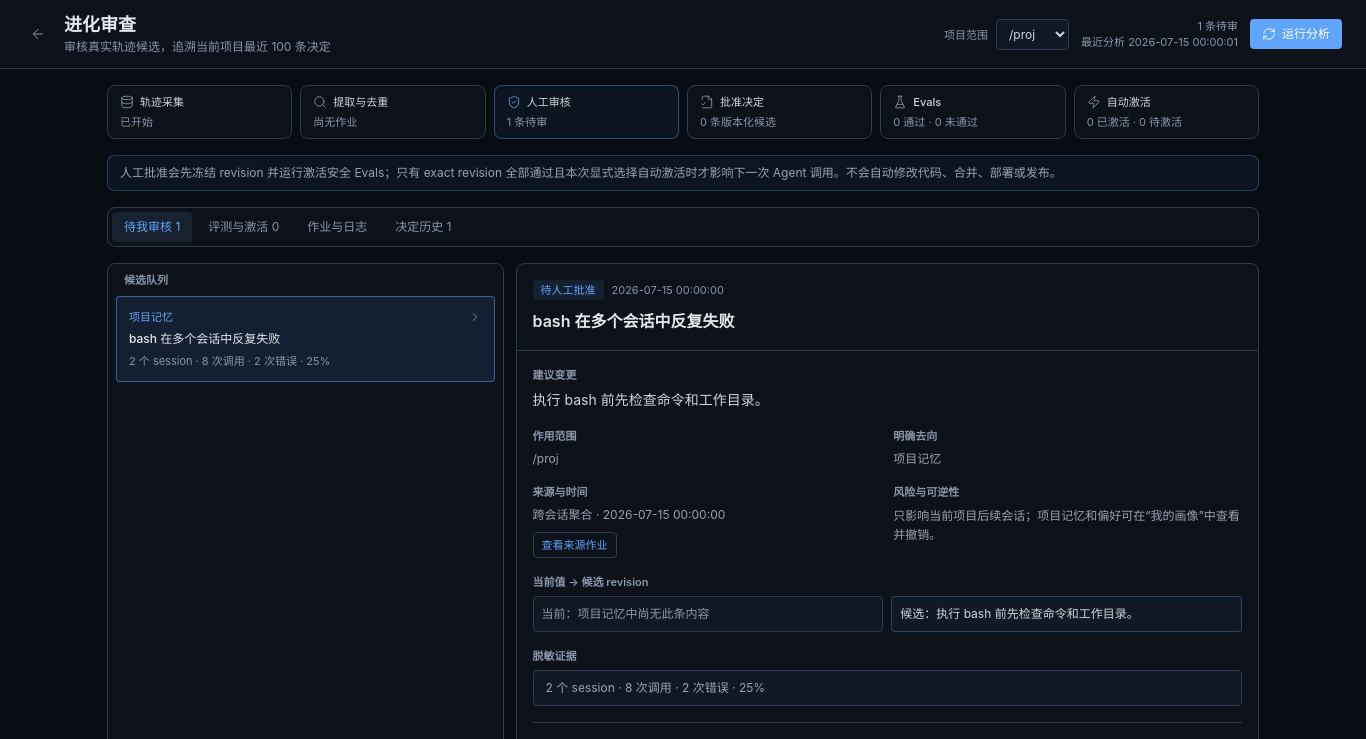
Test: EvolutionWorkbenchPage › shows the persisted end-to-end analysis job and structured logs
What coordinates should you click on to do the following:
click the tab "作业与日志"
I would click on:
 (337, 227)
Its box is left=295, top=212, right=379, bottom=242.
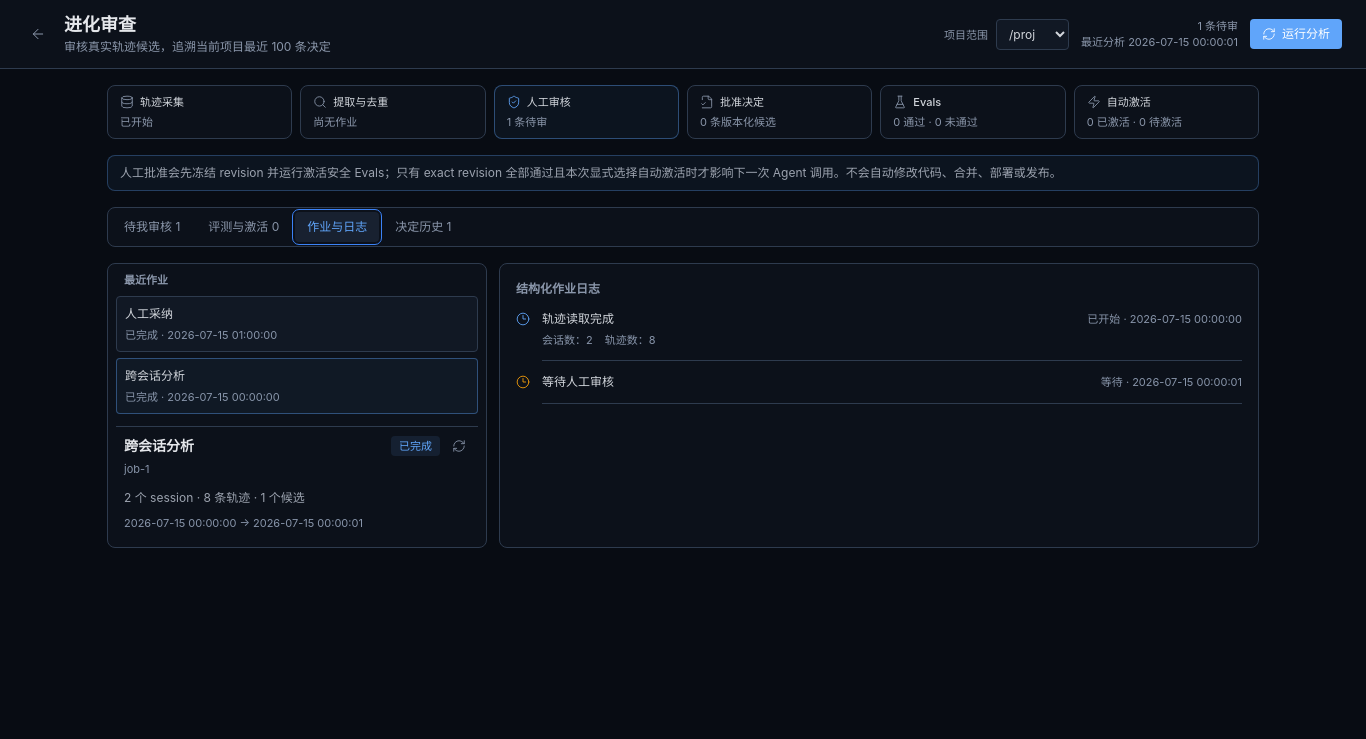
Check: the heading "跨会话分析" is shown, box left=124, top=435, right=194, bottom=457
Check: the text "2 个 session · 8 条轨迹 · 1 个候选" is shown, box left=124, top=490, right=305, bottom=505
Check: the text "轨迹读取完成" is shown, box left=542, top=310, right=614, bottom=328
